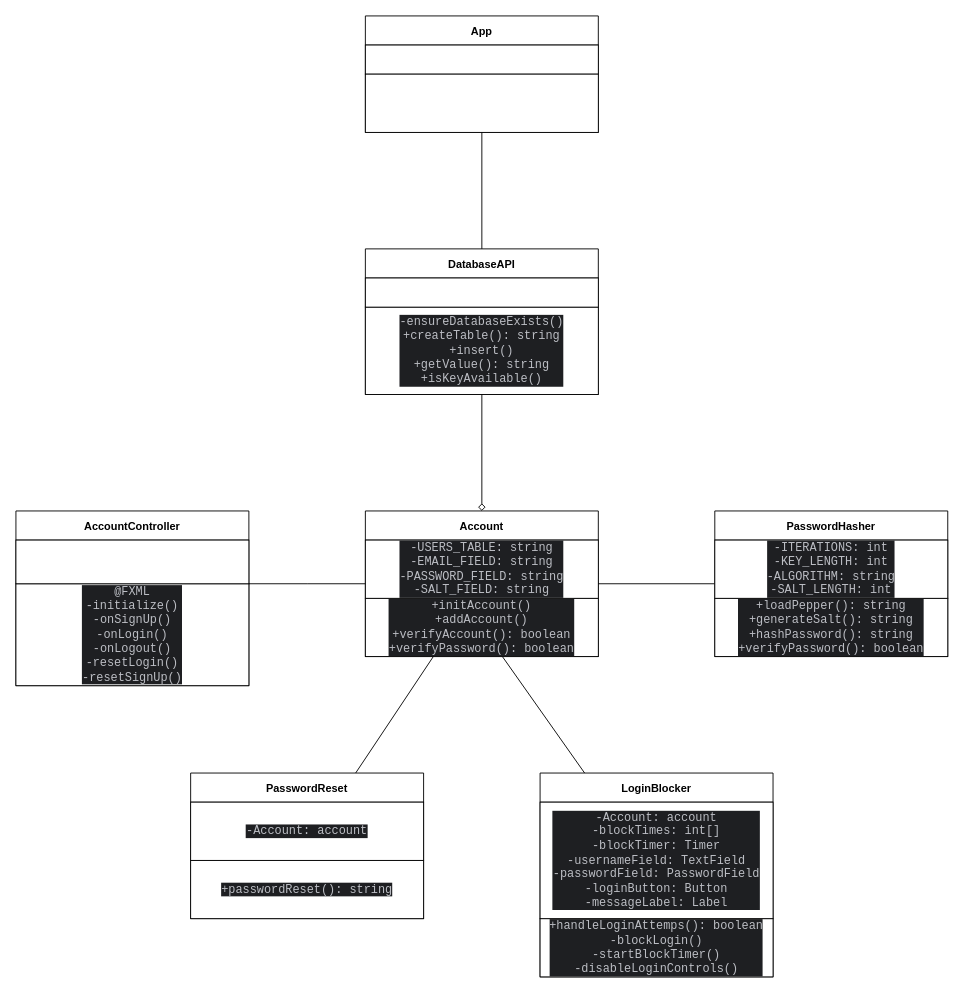
Image size: 964x1004. Some labels were removed from this diagram. The centre of each missing label's shape, as x and y in pixels:
#url : string: pixel 481 292
+start() +setRoot() -loadFXML() +main(): pixel 481 102
-Account: account @FXML: pixel 132 561
-Scene: scene: pixel 481 59
